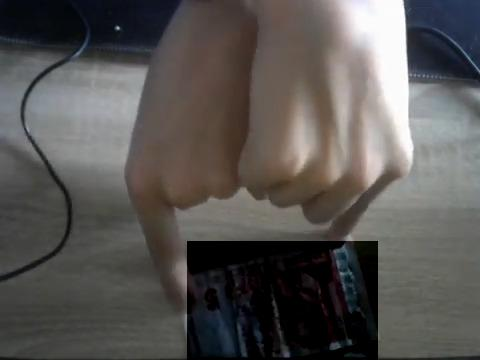5leva: (187, 241, 378, 360)
